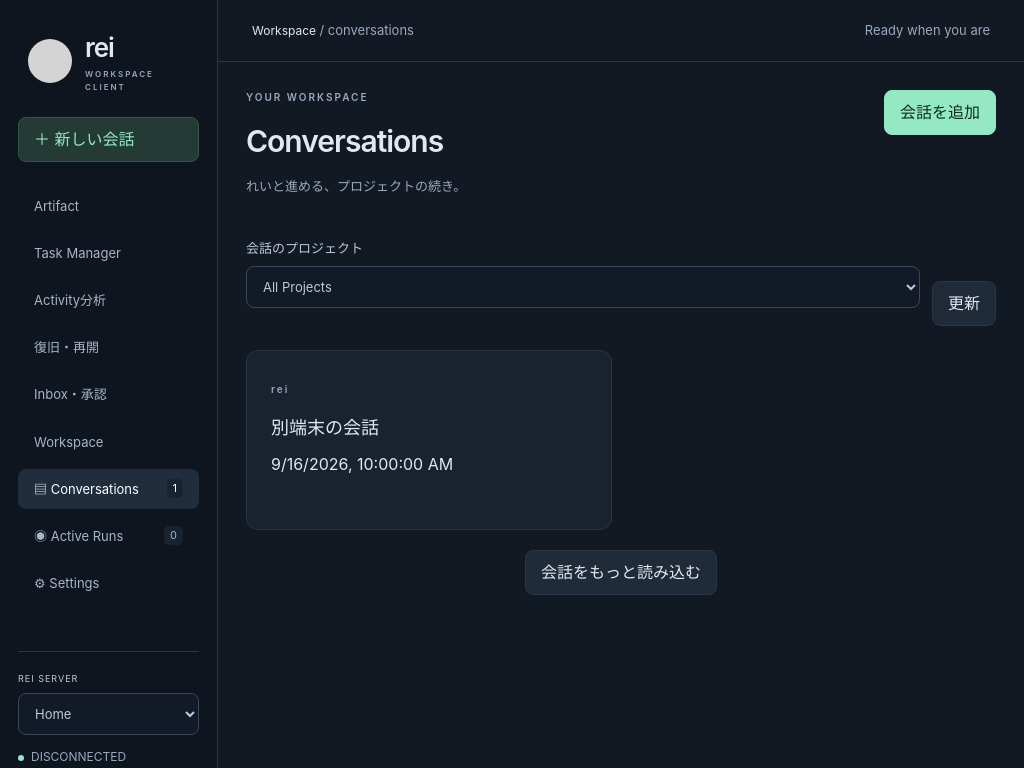
Test: submit 404 preserves the draft and never forks automatically
The image size is (1024, 768).
Click the button "rei 別端末の会話 9/16/2026, 10:00:00 AM": (325, 428) x1=247 y1=351 x2=611 y2=529
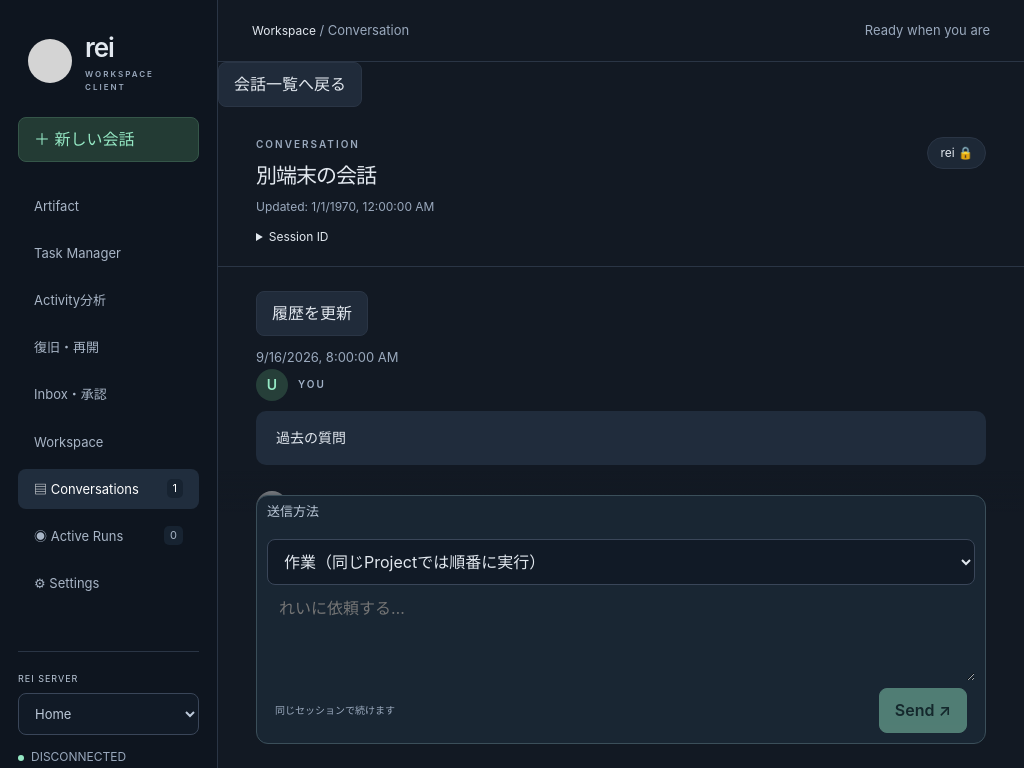
Now the text "過去の回答" is shown, box x1=256 y1=533 x2=326 y2=550
In the text box named "メッセージ": (621, 633) x1=267 y1=585 x2=975 y2=681, type "消さない"
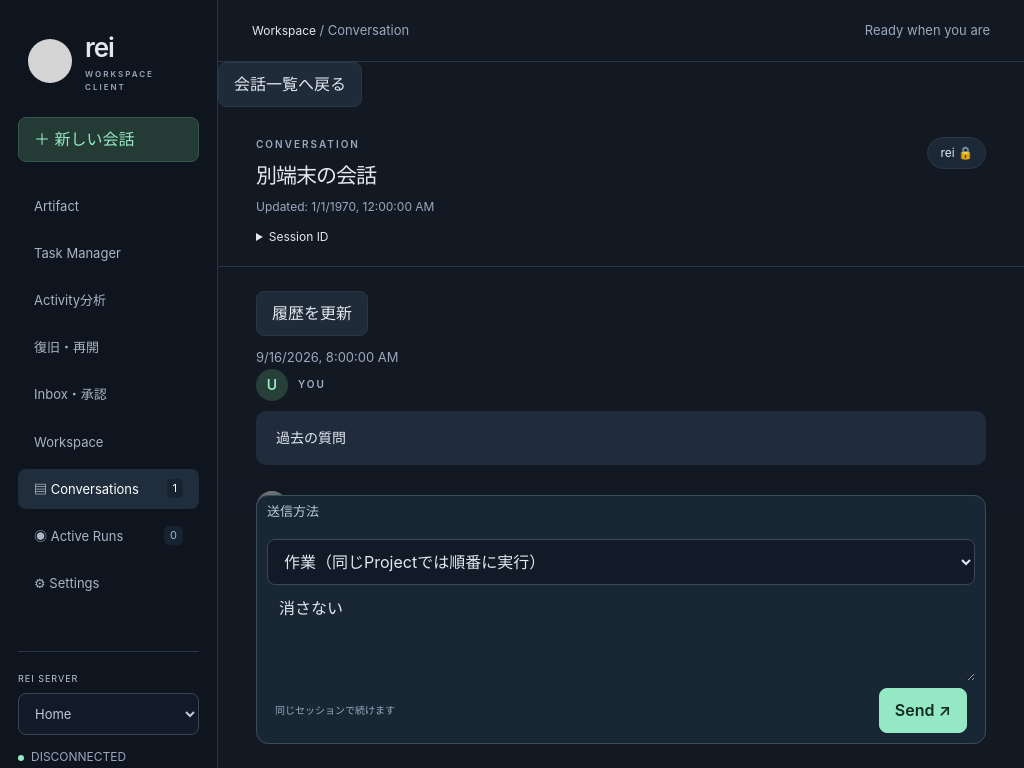
Click the button "Send ↗": (923, 711) x1=879 y1=688 x2=967 y2=733
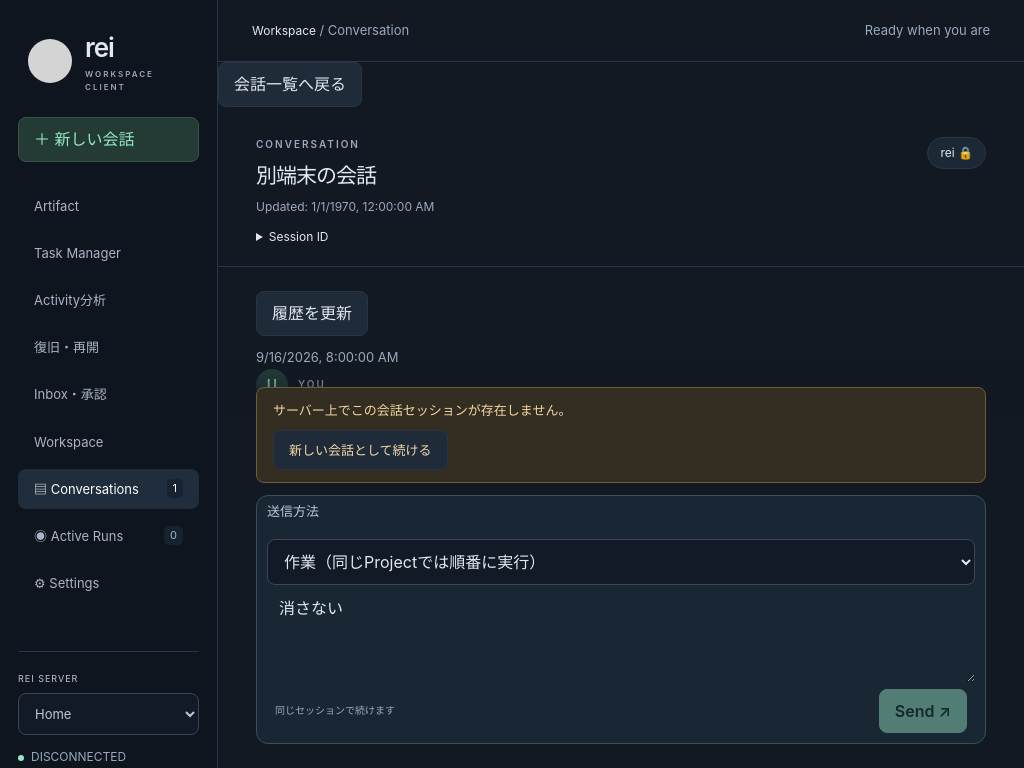
Now the text "サーバー上でこの会話セッションが存在しません。 新しい会話として続ける" is shown, box x1=256 y1=387 x2=986 y2=483
